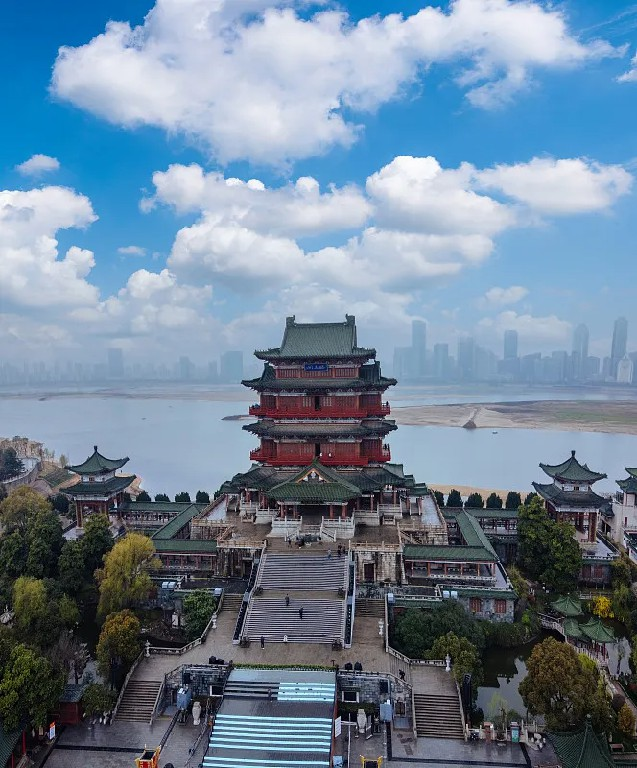Teng: (220, 315, 429, 520)
